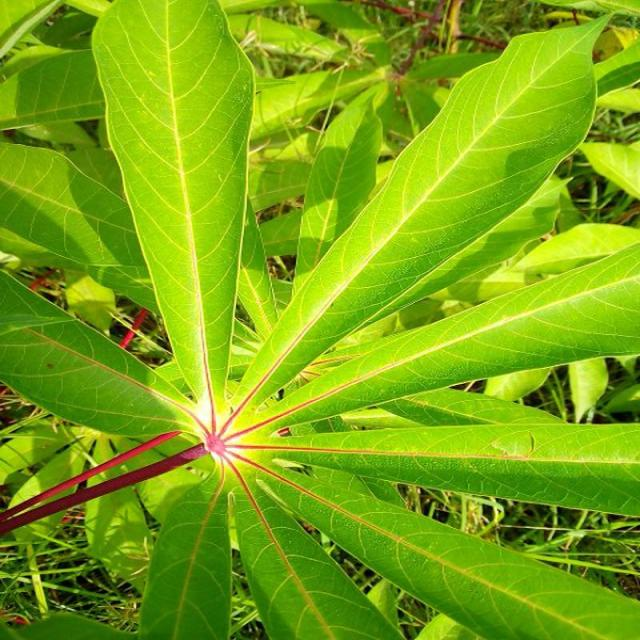cassava leaf: (2, 1, 640, 638), (231, 11, 613, 418), (90, 0, 258, 412)
